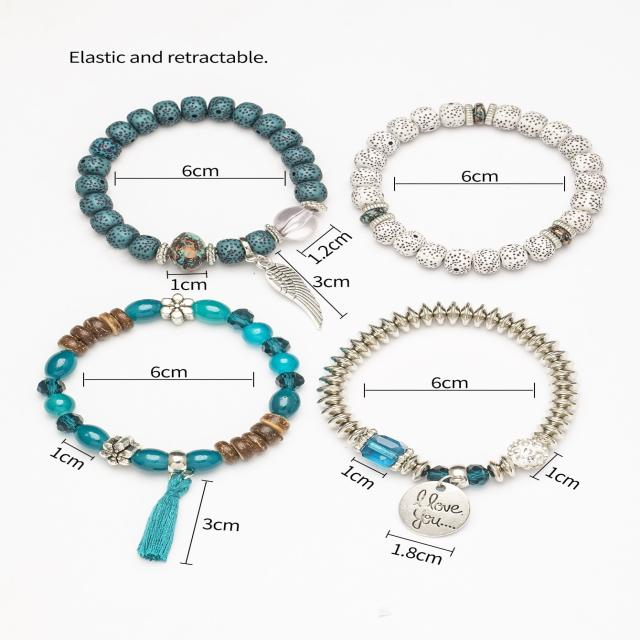bracelet: (2, 273, 343, 584), (303, 271, 640, 558), (325, 17, 640, 285), (42, 60, 360, 281)
